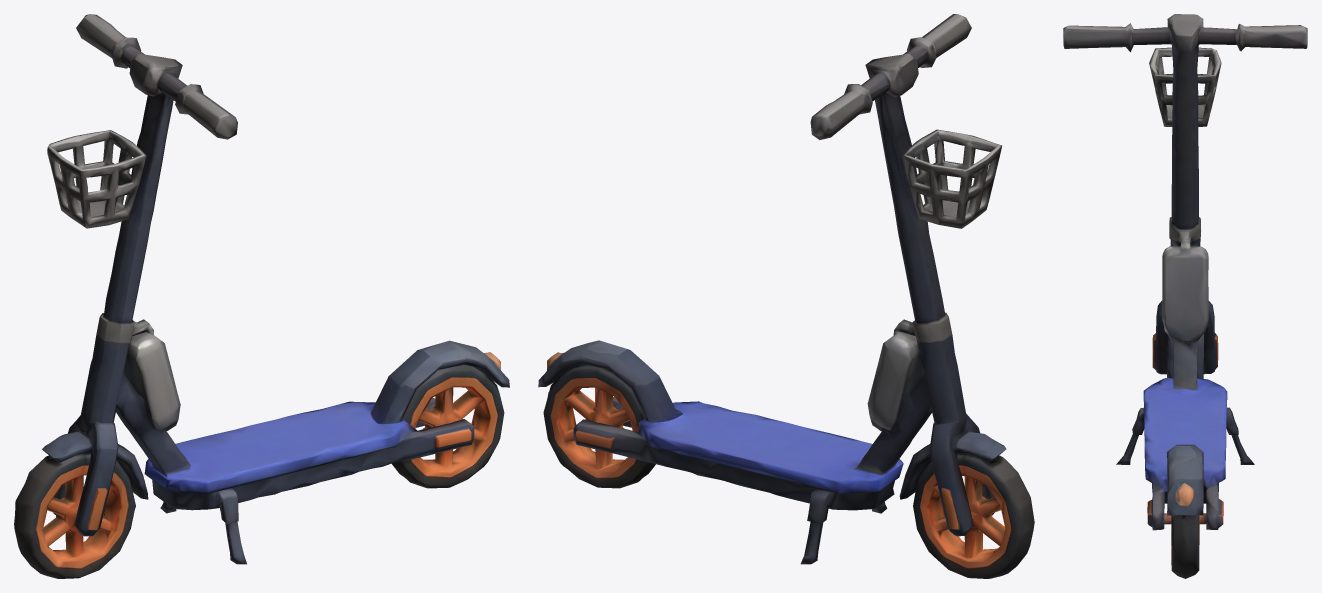
Rendered from scooter.glb.
3 renders of one model, left to right at view 1: azimuth 30°, elevation 25°; view 2: azimuth 150°, elevation 25°; view 3: azimuth 270°, elevation 25°, orthographic. The views are drawn at different scales.
Parts seen in each view (by area): view 1: tripo_node_8225a8a8-f46b-4fe4-a907-0fed9631a1b2; view 2: tripo_node_8225a8a8-f46b-4fe4-a907-0fed9631a1b2; view 3: tripo_node_8225a8a8-f46b-4fe4-a907-0fed9631a1b2.
Boxes of the visible parts, <box> form: tripo_node_8225a8a8-f46b-4fe4-a907-0fed9631a1b2: <box>14,14,509,578</box>; tripo_node_8225a8a8-f46b-4fe4-a907-0fed9631a1b2: <box>538,14,1034,578</box>; tripo_node_8225a8a8-f46b-4fe4-a907-0fed9631a1b2: <box>1063,14,1307,578</box>.
Size of the model in its own units: 1.7 by 1.67 by 0.8522.
Materials: 1 (1 with a texture image).
